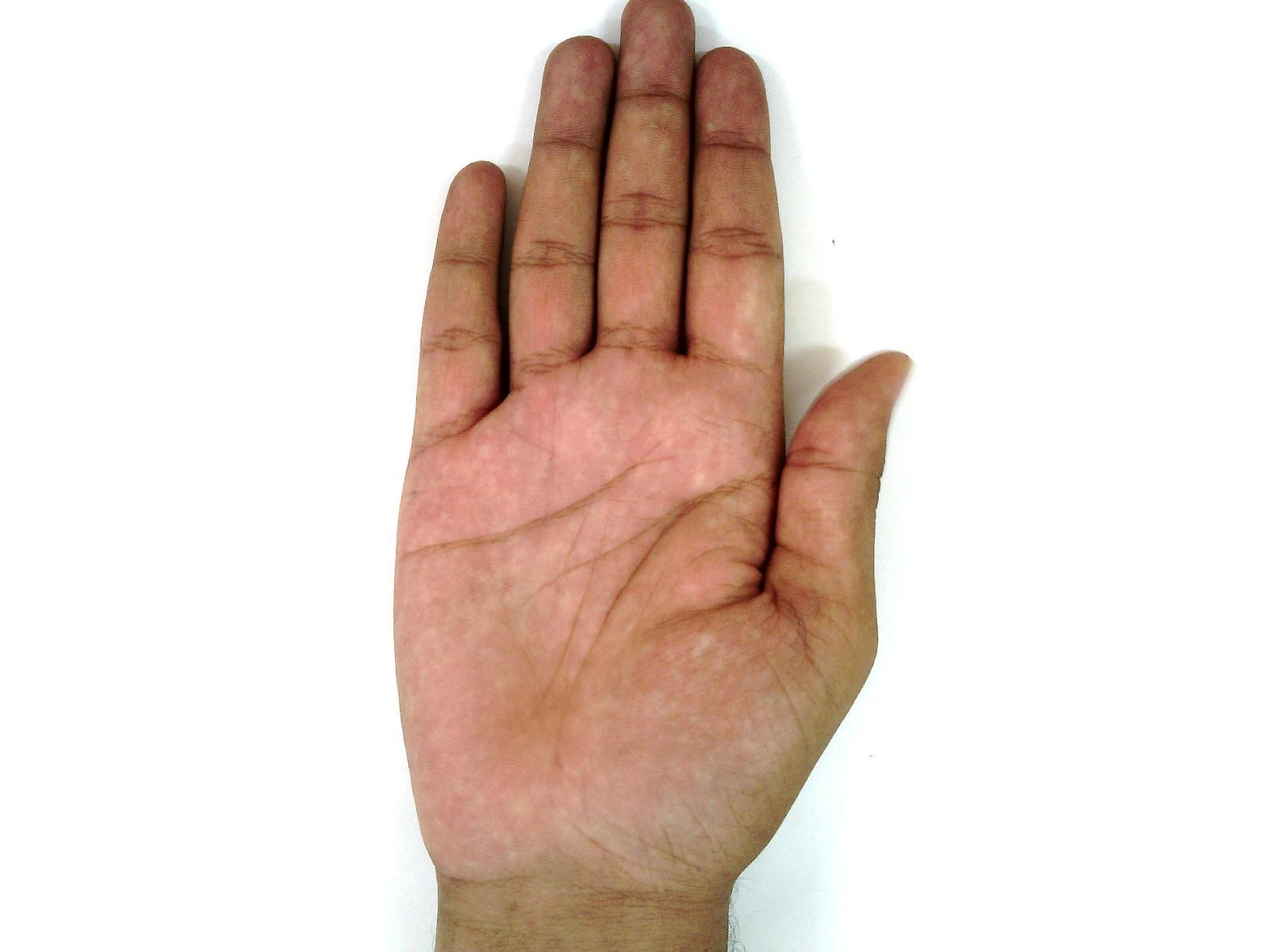open_palm: (389, 4, 917, 897)
